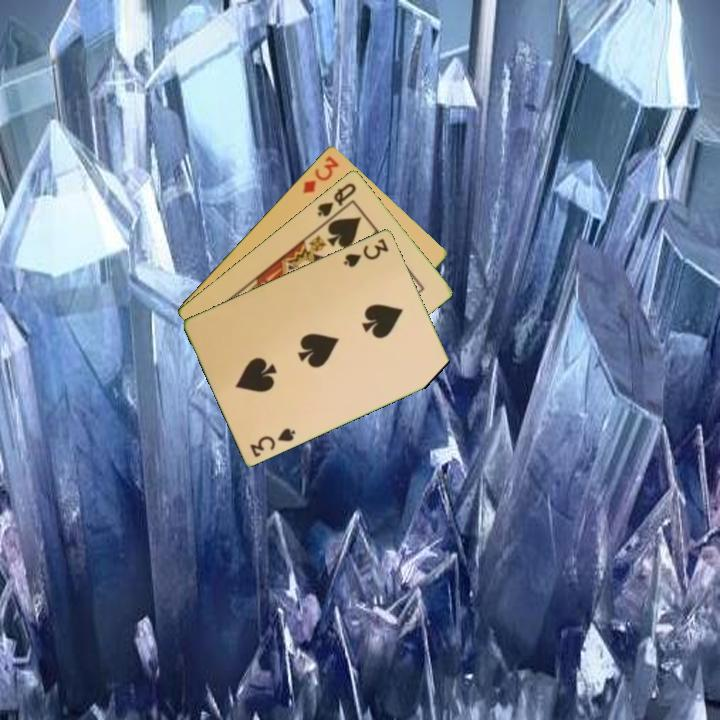3d: (299, 152, 342, 196)
3s: (340, 234, 392, 270), (247, 424, 299, 460)
Qs: (313, 179, 359, 219)
